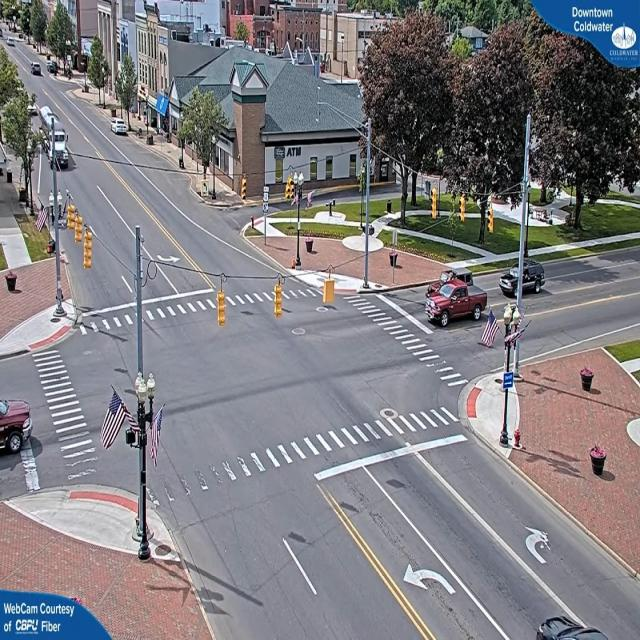car: (427, 276, 488, 327), (112, 121, 130, 138), (30, 64, 42, 76)
truck: (39, 106, 74, 172)
